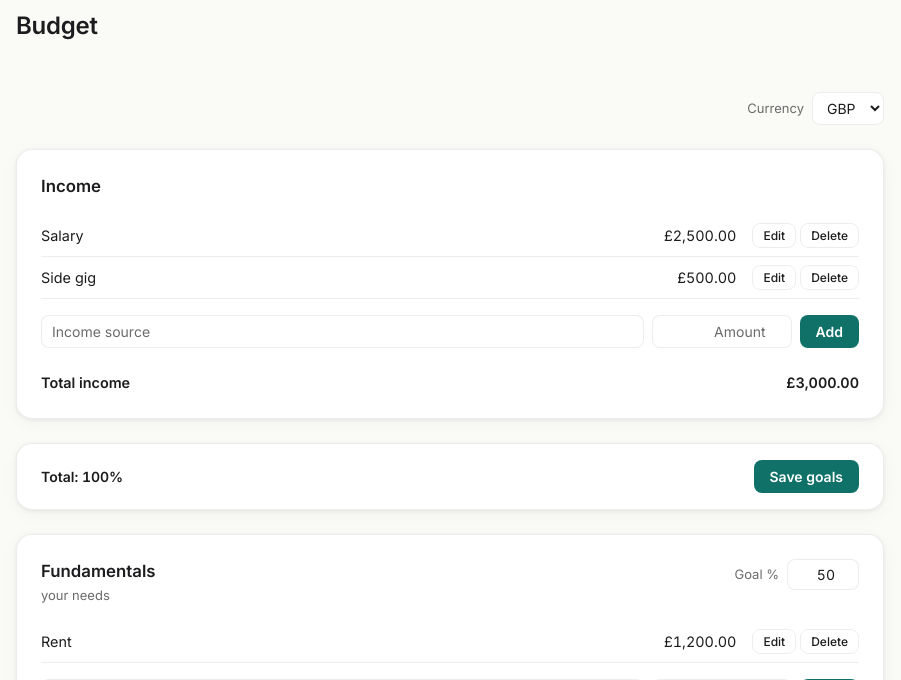
Scenario: BudgetComponent › income CRUD › should disable a row's buttons while its mutation is in flight
Click the button with class "income-delete-btn" in the row of "Salary" at x=830, y=236, box [800,223,859,248]
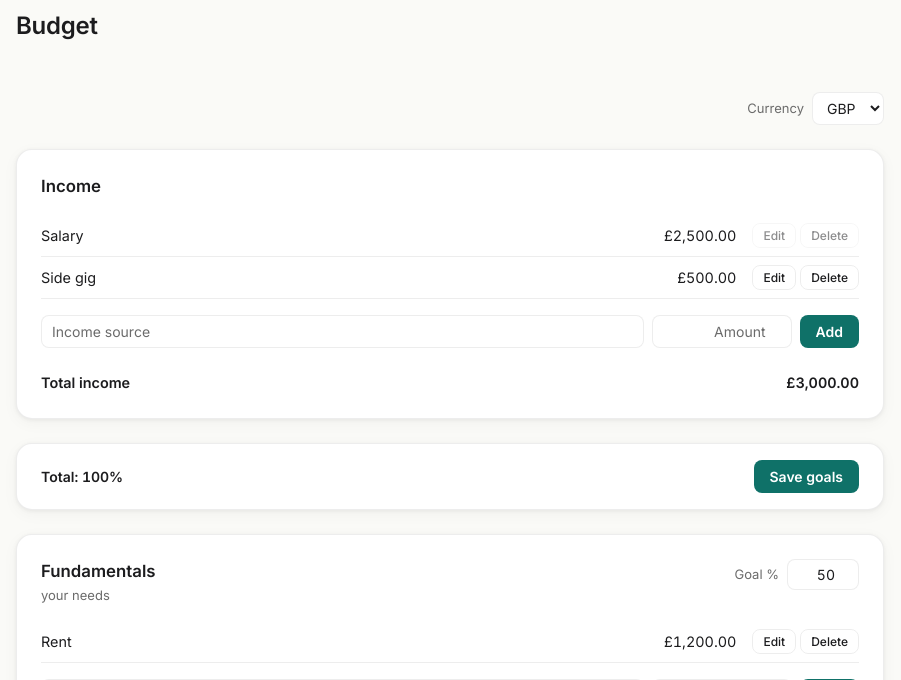
Now the button with class "income-delete-btn" in the row of "Salary" is disabled, box [800,223,859,248]
Now the button with class "income-edit-btn" in the row of "Salary" is disabled, box [752,223,796,248]
